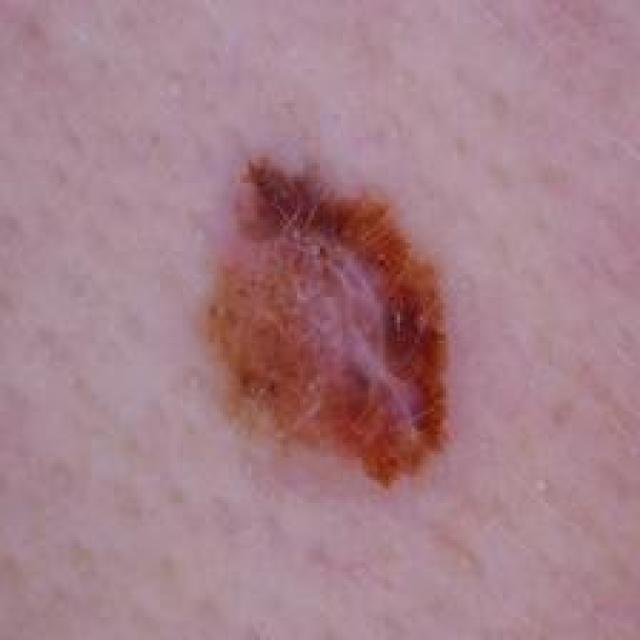Cancer: (200, 152, 451, 488)
